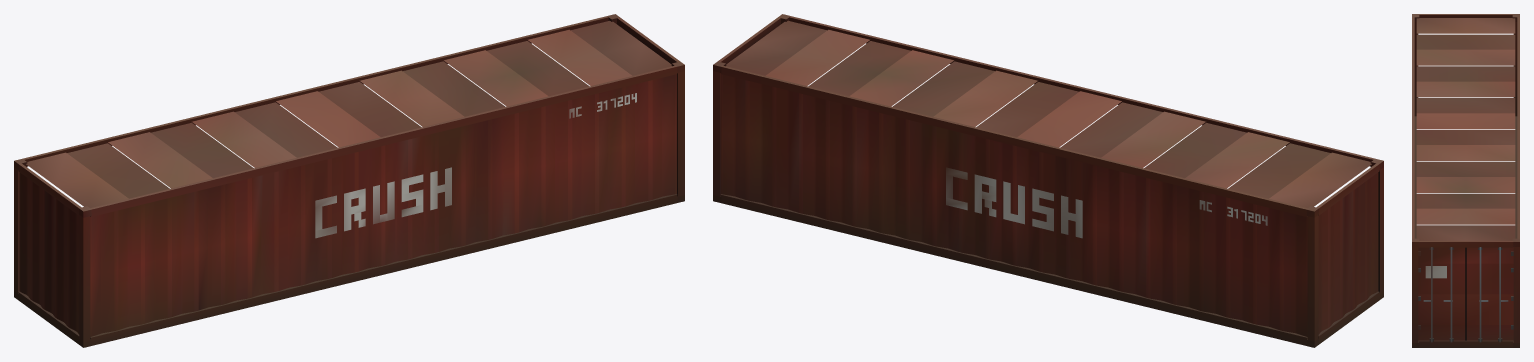
File: container_red.glb
The picture shows the model from 3 angles, left to right: view 1: azimuth 30°, elevation 25°; view 2: azimuth 150°, elevation 25°; view 3: azimuth 270°, elevation 25°; orthographic projection. The views are drawn at different scales.
Parts seen in each view (by area): view 1: Container; view 2: Container; view 3: Container.
Part boxes in pixels (x1,y1,x2,y2): Container: (14, 14, 684, 347); Container: (713, 14, 1383, 347); Container: (1412, 14, 1519, 347).
Bounding box in the file's own units: 12 × 2.6 × 2.4.
